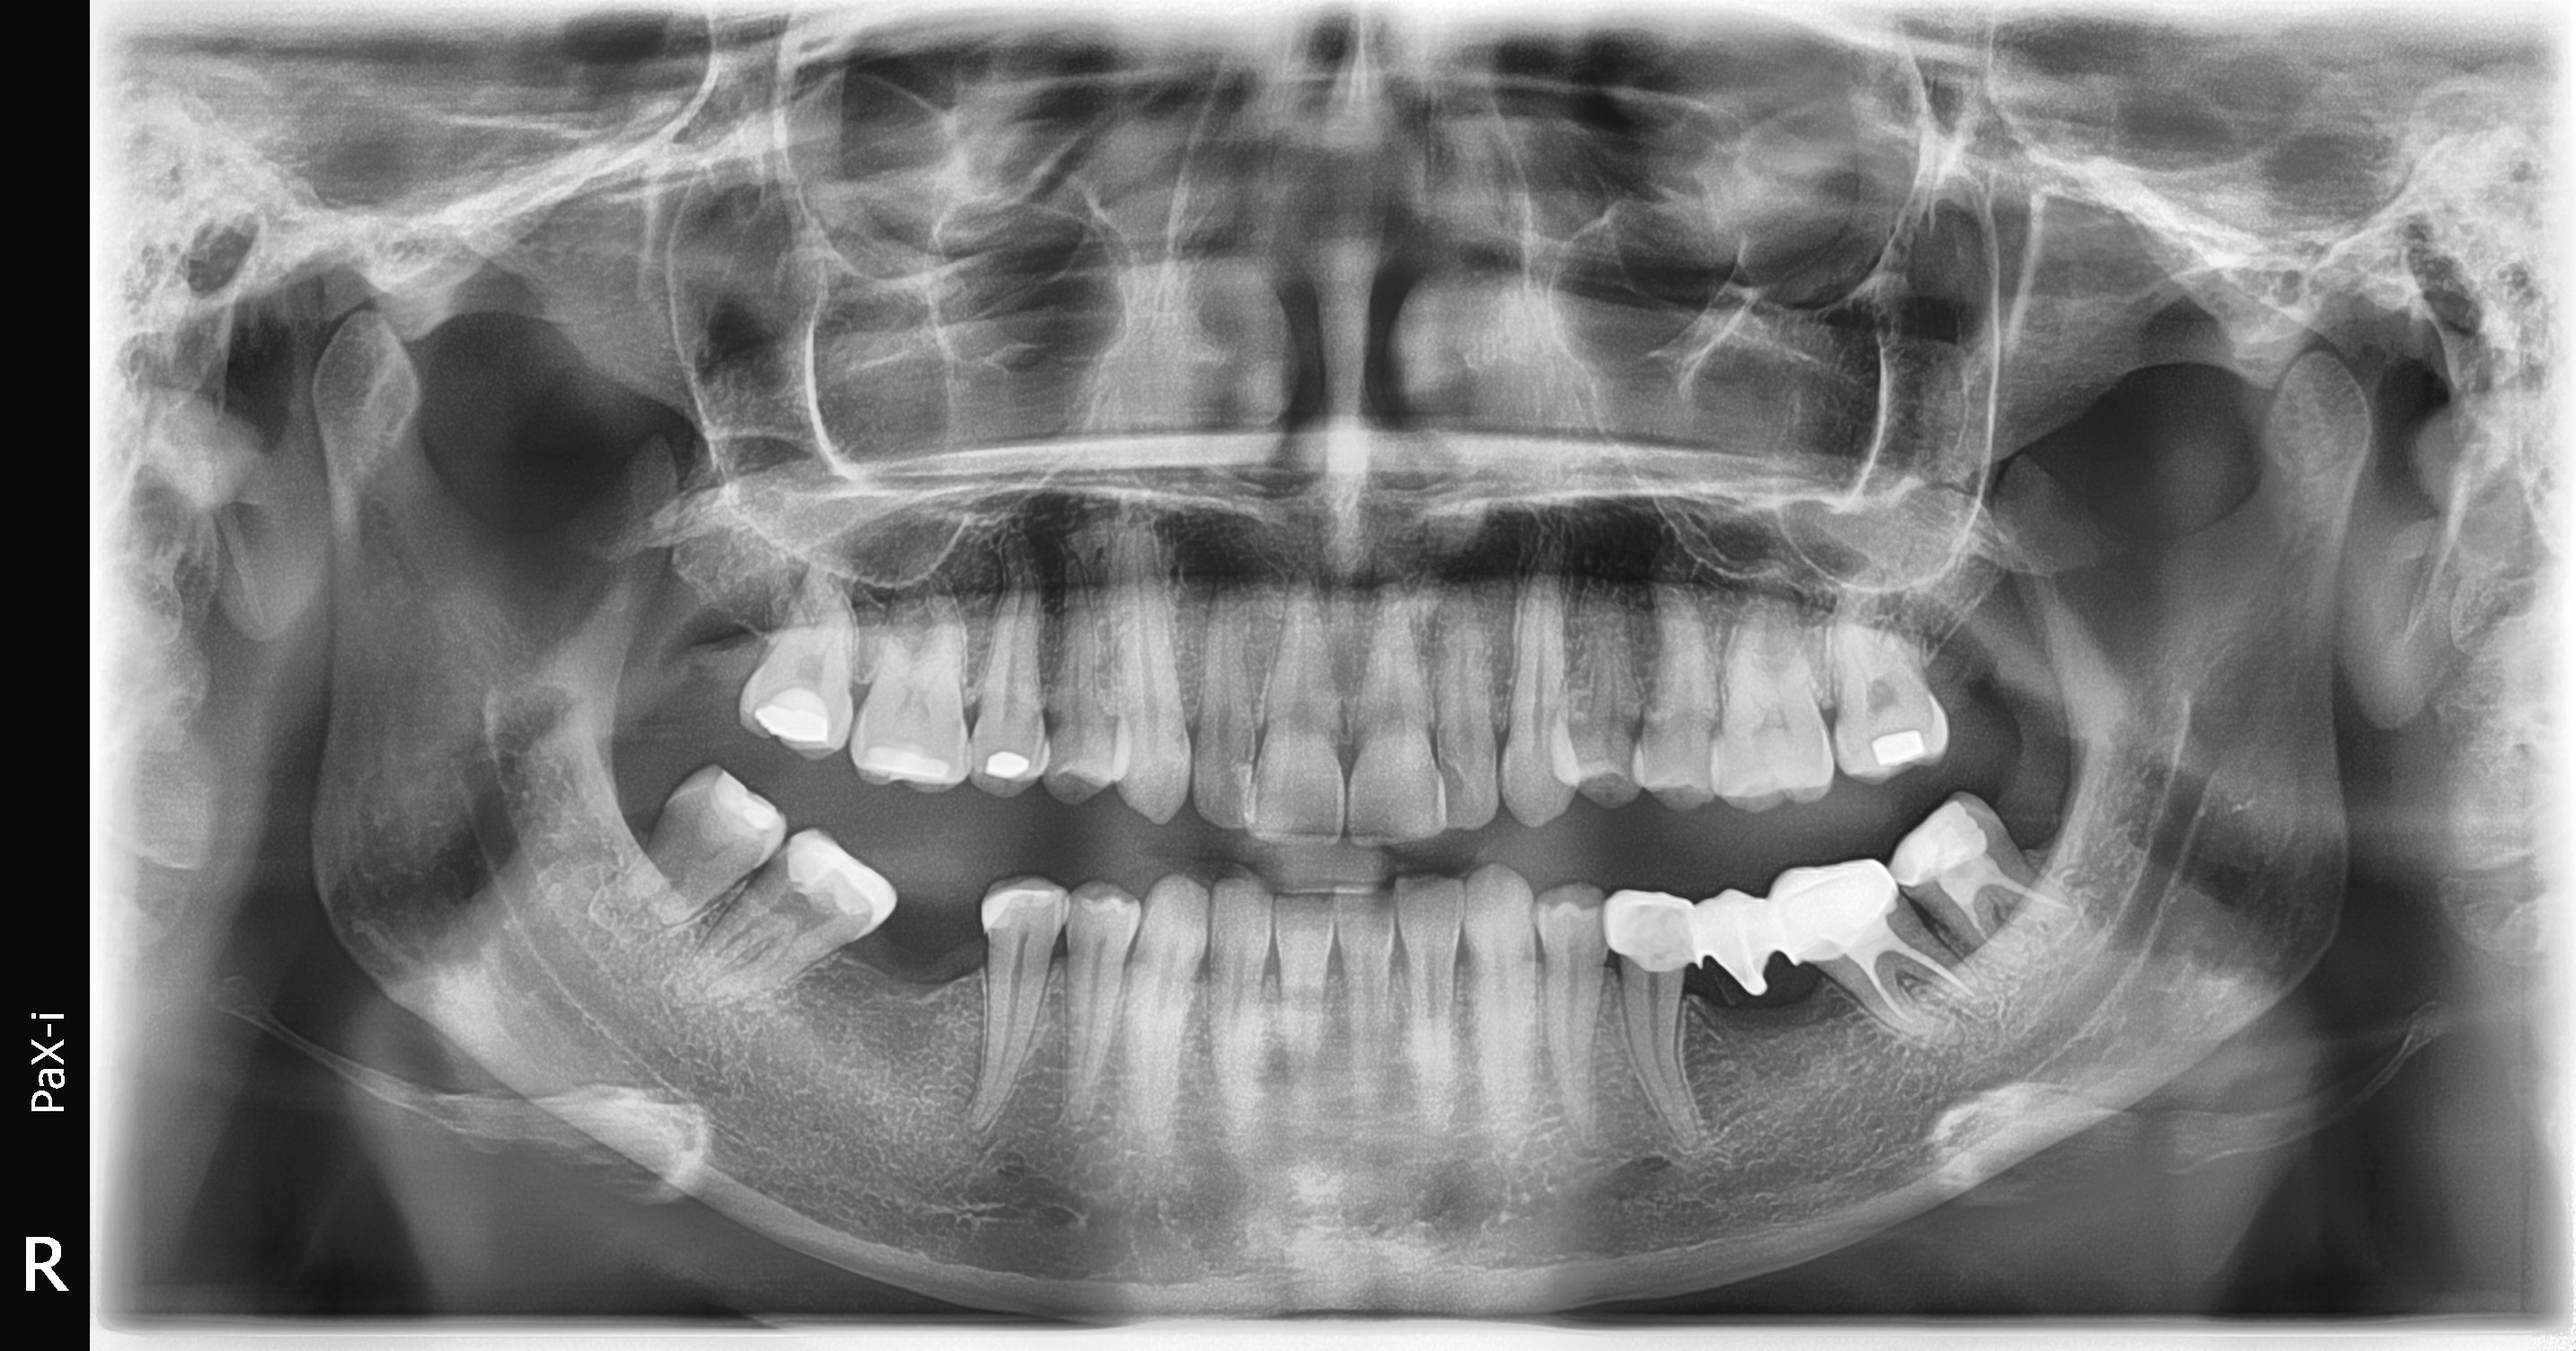END: (1937, 850, 2073, 949)
OBT: (1888, 799, 1988, 886)
PRR: (1603, 860, 1898, 995)
